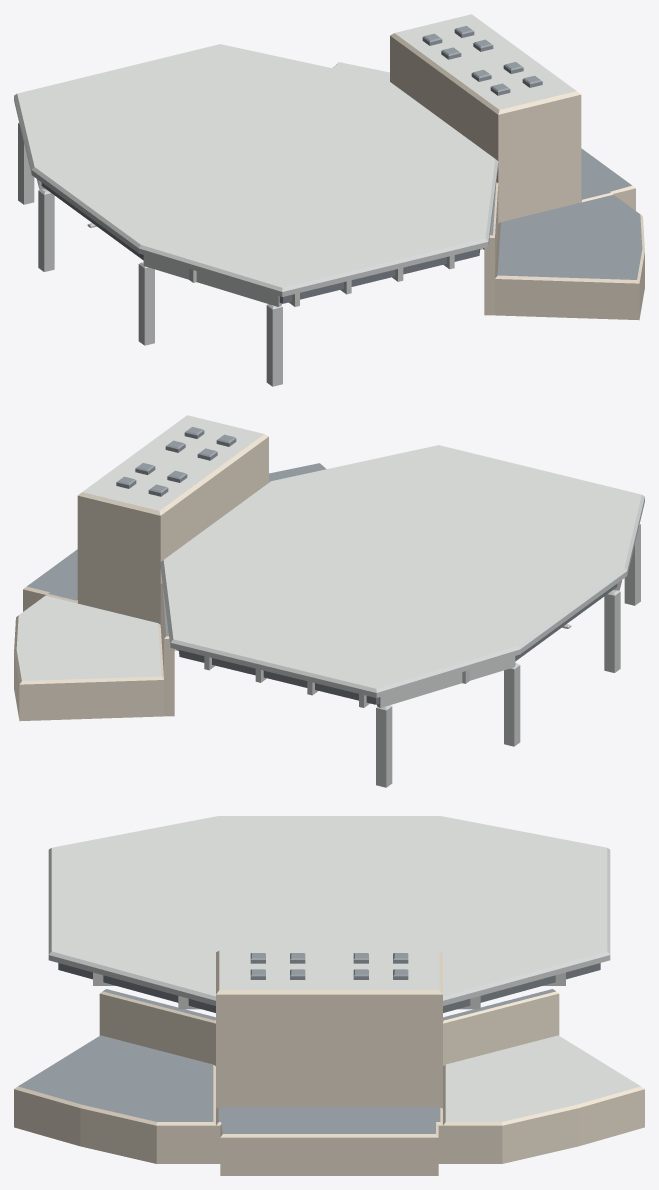
File: pnc-music-pavilion.glb
3 views of the same model, one above another, from view 1: azimuth 30°, elevation 25°; view 2: azimuth 150°, elevation 25°; view 3: azimuth 270°, elevation 25° (orthographic). The views are drawn at different scales.
Visible parts, largest first — view 1: PNC Music Pavilion; view 2: PNC Music Pavilion; view 3: PNC Music Pavilion.
Boxes of the visible parts, x1,y1,x2,y2 form: PNC Music Pavilion: (14, 14, 644, 386); PNC Music Pavilion: (14, 415, 644, 787); PNC Music Pavilion: (14, 816, 644, 1175).
Bounding box in the file's own units: 87.1 × 25.6 × 91.2.
